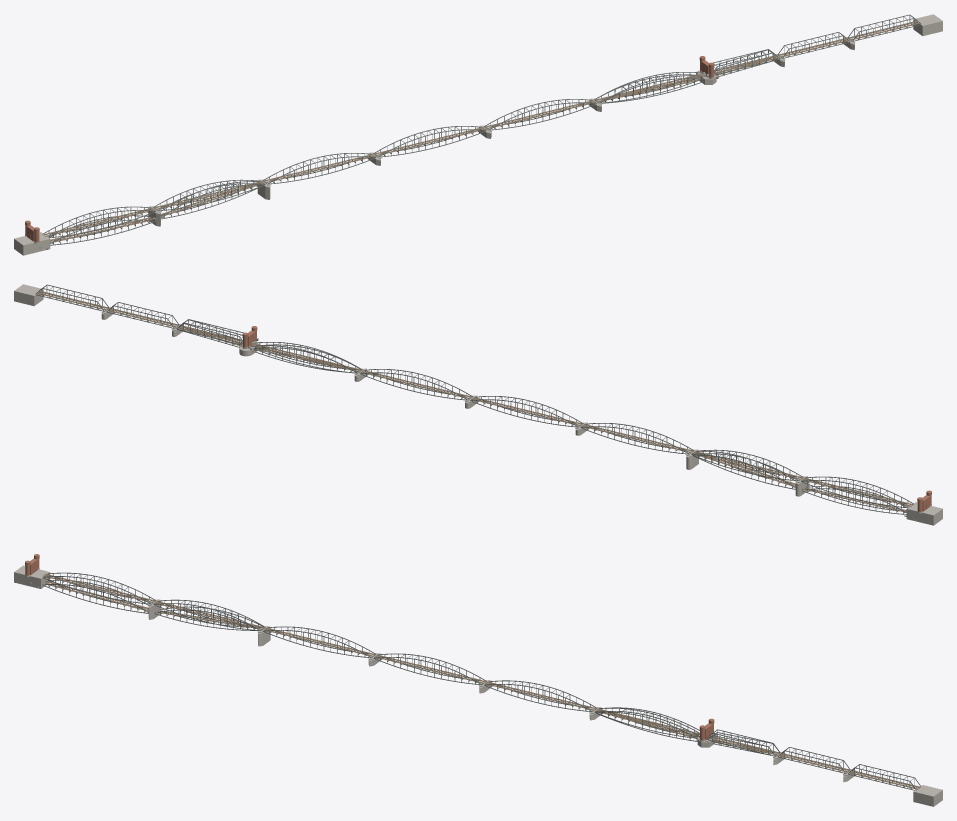
File: bridge_rail_1891_1912.lod1.glb
3 renders of one model, top to bottom at view 1: azimuth 30°, elevation 25°; view 2: azimuth 150°, elevation 25°; view 3: azimuth 330°, elevation 25°, orthographic.
Parts seen in each view (by area): view 1: rail_span_05, rail_span_03, rail_span_04, rail_span_01, rail_span_02, rail_span_06, rail_span_01_collapsed, rail_span_02_collapsed, rail_span_06_collapsed, rail_span_09, rail_span_08, rail_span_07 (+1 smaller); view 2: rail_span_05, rail_span_03, rail_span_04, rail_span_01, rail_span_06, rail_span_02, rail_span_02_collapsed, rail_span_01_collapsed, rail_span_06_collapsed, rail_span_09, rail_span_08, rail_span_07 (+2 smaller); view 3: rail_span_04, rail_span_03, rail_span_05, rail_span_02, rail_span_01, rail_span_01_collapsed, rail_span_02_collapsed, rail_span_06_collapsed, rail_span_06, rail_span_08, rail_span_09, rail_span_07.
Boxes of the visible parts, <box> form: rail_span_05: <box>484,99,597,130</box>; rail_span_03: <box>262,153,376,184</box>; rail_span_04: <box>373,126,486,157</box>; rail_span_01: <box>43,206,156,238</box>; rail_span_02: <box>153,179,265,210</box>; rail_span_06: <box>595,72,707,103</box>; rail_span_01_collapsed: <box>49,215,154,245</box>; rail_span_02_collapsed: <box>161,181,264,219</box>; rail_span_06_collapsed: <box>594,74,703,103</box>; rail_span_09: <box>847,14,921,41</box>; rail_span_08: <box>777,32,850,58</box>; rail_span_07: <box>713,49,780,75</box>; rail_span_05: <box>359,369,472,400</box>; rail_span_03: <box>580,423,694,454</box>; rail_span_04: <box>470,396,583,427</box>; rail_span_01: <box>800,476,913,508</box>; rail_span_06: <box>250,342,362,373</box>; rail_span_02: <box>691,449,803,480</box>; rail_span_02_collapsed: <box>692,450,795,489</box>; rail_span_01_collapsed: <box>802,485,906,514</box>; rail_span_06_collapsed: <box>254,344,361,373</box>; rail_span_09: <box>35,284,109,311</box>; rail_span_08: <box>106,302,179,328</box>; rail_span_07: <box>176,319,243,345</box>; rail_span_04: <box>373,653,486,684</box>; rail_span_03: <box>262,626,376,657</box>; rail_span_05: <box>484,680,597,711</box>; rail_span_02: <box>153,599,265,630</box>; rail_span_01: <box>43,572,156,604</box>; rail_span_01_collapsed: <box>43,580,148,613</box>; rail_span_02_collapsed: <box>155,606,263,630</box>; rail_span_06_collapsed: <box>594,707,699,741</box>; rail_span_06: <box>594,707,699,738</box>; rail_span_08: <box>777,747,850,773</box>; rail_span_09: <box>848,764,921,790</box>; rail_span_07: <box>706,729,780,756</box>.
Bounding box in the file's own units: 1087 × 31.07 × 26.75.
